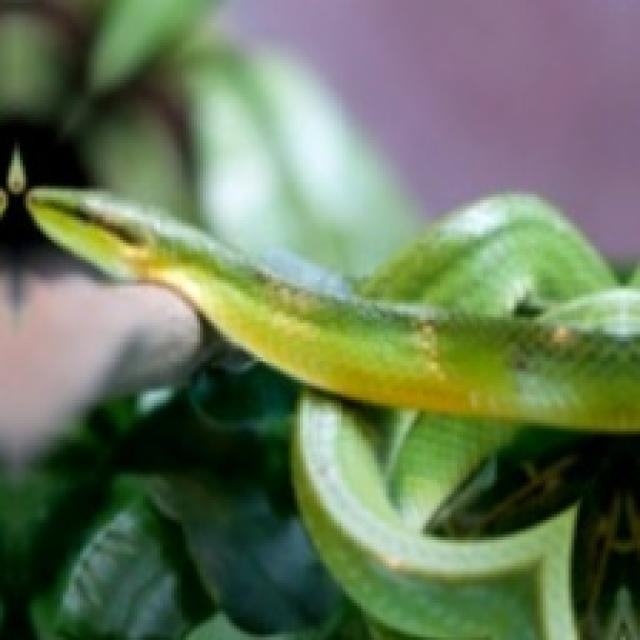red-tailed green ratsnake: (26, 189, 637, 637)
